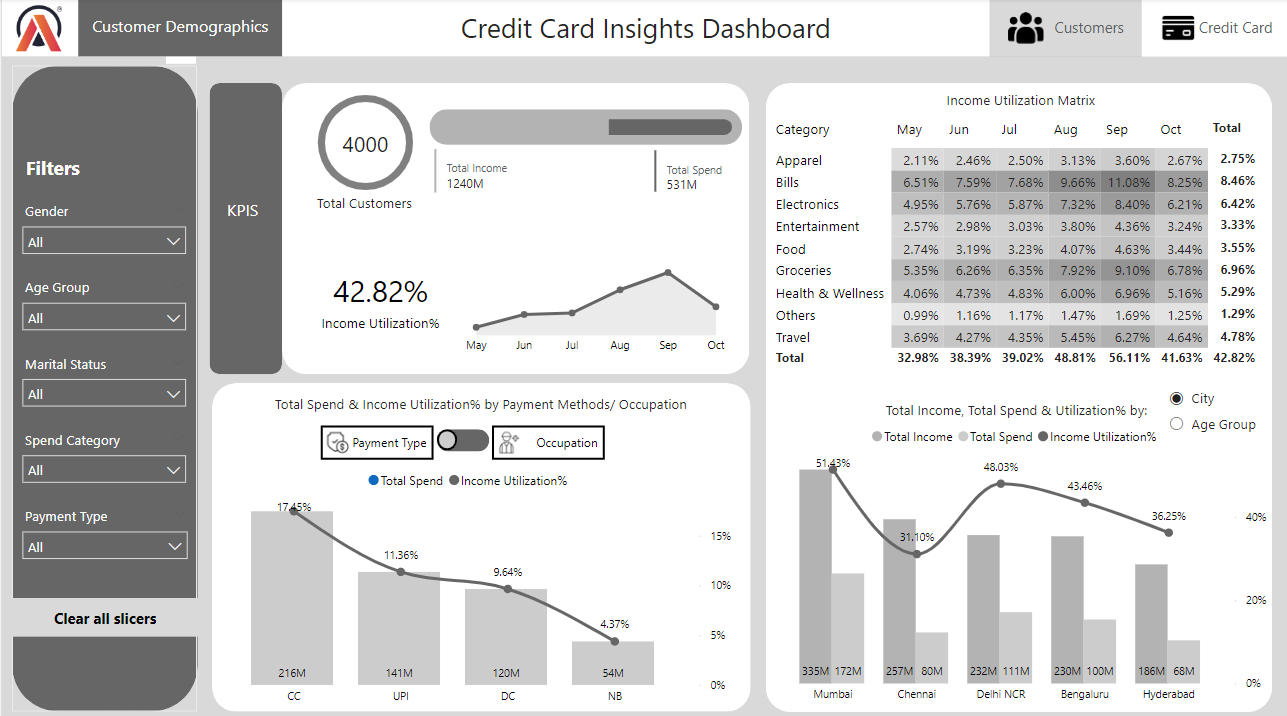

This screenshot's page, from the dashboard's own definition file:
{"tool":"powerbi","page":{"name":"Customer Demographics","canvas":[1280,720],"ordinal":1},"visuals":[{"type":"hundredPercentStackedBarChart","fields":{"Y":["Measures Table.Income - Spend","Measures Table.Total Spend"]},"box":[433,84.1,295.8,81.9],"z":0,"group":"g1"},{"type":"cardVisual","fields":{"Data":["Measures Table.Total Spend"]},"box":[642.7,145.9,91.7,51.9],"z":0,"group":"g3"},{"type":"textbox","box":[18.5,150.9,174.9,37.4],"z":0,"group":"g2"},{"type":"shape","box":[208.1,382.3,535,326.5],"z":0},{"type":"shape","box":[432.7,428,52,22],"z":0,"group":"g4"},{"type":"shape","box":[424.4,109.8,310.5,35.4],"z":1000,"group":"g1"},{"type":"cardVisual","fields":{"Data":["Measures Table.Total Income"]},"box":[424.4,144.7,100.1,53.1],"z":1000,"group":"g3"},{"type":"slicer","fields":{"Values":["Gender Table.Gender"]},"box":[9.6,196.8,183.1,67.7],"z":1000,"group":"g2"},{"type":"actionButton","box":[316,424.5,112,34],"z":1000},{"type":"shape","box":[464.7,428.5,20,21],"z":1000,"group":"g4"},{"type":"group","id":"g1","title":"Group 1","box":[424.4,84.1,310.5,81.9],"z":2000,"group":"g3"},{"type":"slicer","fields":{"Values":["Dim Customers.Age Group"]},"box":[9.6,272.5,183.1,67.7],"z":2000,"group":"g2"},{"type":"actionButton","box":[486,424.5,112,34],"z":2000},{"type":"shape","box":[758.3,84.4,502.9,624.7],"z":3000},{"type":"slicer","fields":{"Values":["Dim Customers.Marital Status"]},"box":[9.6,348.2,183.1,67.7],"z":3000,"group":"g2"},{"type":"shape","box":[283,84.4,459.3,289.2],"z":4000},{"type":"slicer","fields":{"Values":["Fact Spends.Category"]},"box":[9.6,423.9,183.1,67.7],"z":4000,"group":"g2"},{"type":"slicer","fields":{"Values":["Payment Type.Payment Type"]},"box":[9.6,499.6,184.5,68.9],"z":5000,"group":"g2"},{"type":"shape","box":[9.6,67.5,184.5,641.6],"z":6000},{"type":"cardVisual","fields":{"Data":["Measures Table.Income Utilization%"]},"box":[285.5,254.5,181.2,103],"z":7000},{"type":"areaChart","fields":{"Category":["Months Table.Month Name Description"],"Y":["Measures Table.Income Utilization%"]},"box":[452.2,254.5,276.2,102.5],"z":8000},{"type":"shape","box":[0,1.2,1279.6,56.7],"z":9000},{"type":"group","id":"g2","title":"Group 3","box":[9.6,150.9,184.5,417.7],"z":10000},{"type":"donutChart","fields":{"Y":["Measures Table.Total Customers","Measures Table.Gender Filter"]},"box":[286.2,84.3,148.3,118.2],"z":11000},{"type":"actionButton","box":[9.9,595.8,185,38.5],"z":12000},{"type":"shape","box":[76,0.9,202.6,56.7],"z":13000},{"type":"textbox","box":[76,11.2,202.6,36.2],"z":14000},{"type":"cardVisual","fields":{"Data":["Measures Table.Total Customers"]},"box":[318.8,113.3,84.4,53.1],"z":15000},{"type":"lineClusteredColumnComboChart","fields":{"Category":["Cities.City "],"Y":["Measures Table.Total Income","Measures Table.Total Spend"],"Y2":["Measures Table.Income Utilization%"]},"box":[758.4,439.4,502.7,269.4],"z":17000},{"type":"card","fields":{"Values":["Measures Table.Customer Name Msg"]},"box":[282.6,191.7,154.4,28.9],"z":18000},{"type":"textbox","box":[757.9,394.5,506.4,28.5],"z":19000},{"type":"slicer","fields":{"Values":["Parameter.Parameter"]},"box":[1146.5,379.6,103.7,60.3],"z":20000},{"type":"textbox","box":[208.4,388.3,534.3,27.7],"z":21000},{"type":"textbox","box":[758,86.9,506.4,27.3],"z":22000},{"type":"pivotTable","fields":{"Rows":["Category Icons.Category"],"Values":["Measures Table.Income Utilization%"],"Columns":["Months Table.Month Name Description"]},"box":[758.3,113.4,502.9,260.5],"z":23000},{"type":"group","id":"g3","title":"Group 2","box":[424.4,84.1,310.5,113.7],"z":24000},{"type":"image","box":[7.2,1.2,59.1,56.7],"z":25000},{"type":"lineStackedColumnComboChart","fields":{"Category":["Dim Customers.Occupation"],"Y":["Measures Table.Total Spend"],"Y2":["Measures Table.Income Utilization%"]},"box":[208.4,459.5,534.3,249.6],"z":26000},{"type":"group","id":"g4","title":"Group 1","box":[432.7,428,52,22],"z":27000},{"type":"actionButton","box":[984.3,0,147.7,58.3],"z":28000},{"type":"actionButton","box":[832.9,0,151.4,58.3],"z":29000},{"type":"shape","box":[206.1,84.4,72,289.2],"z":30000},{"type":"textbox","box":[212.3,216,59.6,38.5],"z":31000},{"type":"shape","box":[258.2,84.4,484.1,289.2],"z":32000},{"type":"actionButton","box":[1132.1,0,147.7,58.3],"z":33000}]}

Visuals, with their boxes in screenshot pixels (x1, y1, x2, y2), scaled from the page's 1280x720 canvas onto the 1287x716 screenshot:
hundredPercentStackedBarChart - Measures Table.Income - Spend x Measures Table.Total Spend: bbox=(435, 84, 733, 165)
cardVisual - Measures Table.Total Spend: bbox=(646, 145, 738, 197)
textbox: bbox=(19, 150, 194, 187)
shape: bbox=(209, 380, 747, 705)
shape: bbox=(435, 426, 487, 448)
shape: bbox=(427, 109, 739, 144)
cardVisual - Measures Table.Total Income: bbox=(427, 144, 527, 197)
slicer - Gender Table.Gender: bbox=(10, 196, 194, 263)
actionButton: bbox=(318, 422, 430, 456)
shape: bbox=(467, 426, 487, 447)
"Group 1" group: bbox=(427, 84, 739, 165)
slicer - Dim Customers.Age Group: bbox=(10, 271, 194, 338)
actionButton: bbox=(489, 422, 601, 456)
shape: bbox=(762, 84, 1268, 705)
slicer - Dim Customers.Marital Status: bbox=(10, 346, 194, 414)
shape: bbox=(285, 84, 746, 372)
slicer - Fact Spends.Category: bbox=(10, 422, 194, 489)
slicer - Payment Type.Payment Type: bbox=(10, 497, 195, 565)
shape: bbox=(10, 67, 195, 705)
cardVisual - Measures Table.Income Utilization%: bbox=(287, 253, 469, 356)
areaChart - Months Table.Month Name Description x Measures Table.Income Utilization%: bbox=(455, 253, 732, 355)
shape: bbox=(0, 1, 1286, 58)
"Group 3" group: bbox=(10, 150, 195, 565)
donutChart - Measures Table.Total Customers x Measures Table.Gender Filter: bbox=(288, 84, 437, 201)
actionButton: bbox=(10, 592, 196, 631)
shape: bbox=(76, 1, 280, 57)
textbox: bbox=(76, 11, 280, 47)
cardVisual - Measures Table.Total Customers: bbox=(321, 113, 405, 165)
lineClusteredColumnComboChart - Cities.City  x Measures Table.Total Income: bbox=(763, 437, 1268, 705)
card - Measures Table.Customer Name Msg: bbox=(284, 191, 439, 219)
textbox: bbox=(762, 392, 1271, 421)
slicer - Parameter.Parameter: bbox=(1153, 377, 1257, 437)
textbox: bbox=(210, 386, 747, 414)
textbox: bbox=(762, 86, 1271, 114)
pivotTable - Category Icons.Category x Measures Table.Income Utilization%: bbox=(762, 113, 1268, 372)
"Group 2" group: bbox=(427, 84, 739, 197)
image: bbox=(7, 1, 67, 58)
lineStackedColumnComboChart - Dim Customers.Occupation x Measures Table.Total Spend: bbox=(210, 457, 747, 705)
"Group 1" group: bbox=(435, 426, 487, 448)
actionButton: bbox=(990, 0, 1138, 58)
actionButton: bbox=(837, 0, 990, 58)
shape: bbox=(207, 84, 280, 372)
textbox: bbox=(213, 215, 273, 253)
shape: bbox=(260, 84, 746, 372)
actionButton: bbox=(1138, 0, 1286, 58)
